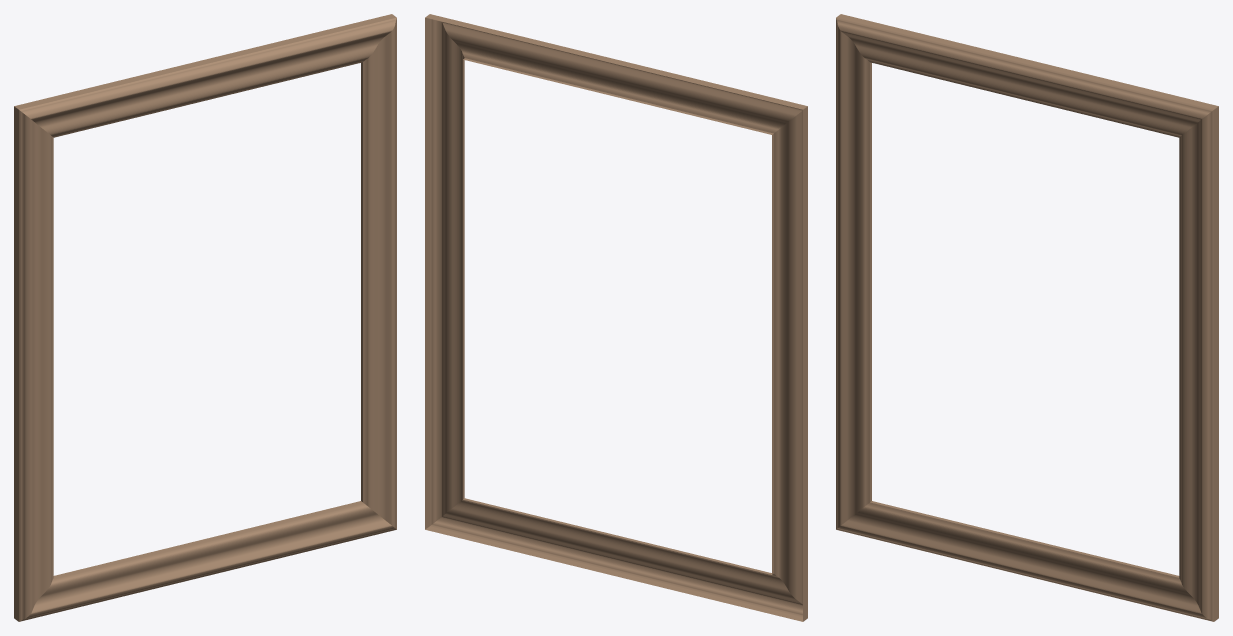
The model's file is BrainSquare.gltf.
3 renders of one model, left to right at view 1: azimuth 30°, elevation 25°; view 2: azimuth 150°, elevation 25°; view 3: azimuth 330°, elevation 25°, orthographic.
Visible parts, largest first — view 1: BrainSquare; view 2: BrainSquare; view 3: BrainSquare.
Boxes of the visible parts, <box> form: BrainSquare: <box>14,14,396,621</box>; BrainSquare: <box>425,14,807,621</box>; BrainSquare: <box>836,14,1218,621</box>.
Bounding box in the file's own units: 6.55 × 8.48 × 0.2559.
Materials: 1 (1 with a texture image).
